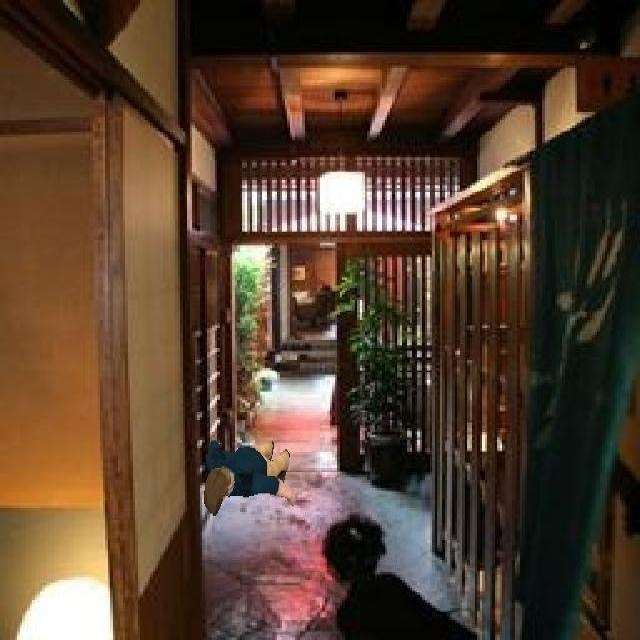obstacle: (203, 433, 289, 519)
